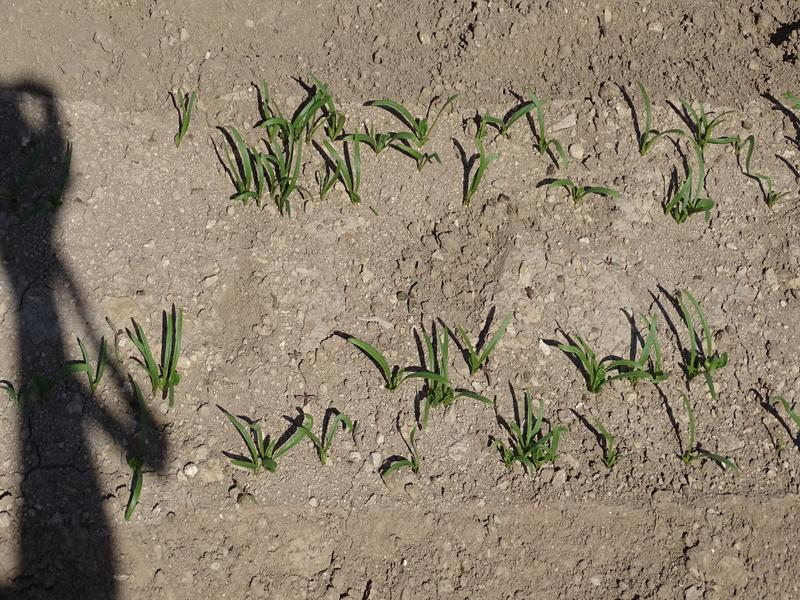Espinaca: (162, 72, 446, 216), (49, 309, 204, 446), (454, 89, 620, 208), (563, 289, 721, 393), (363, 313, 525, 409), (639, 99, 731, 213), (233, 399, 359, 478), (479, 391, 557, 473)
